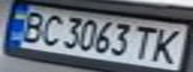0: (78, 16, 100, 53)
3: (109, 20, 136, 58), (60, 15, 84, 51)
6: (93, 19, 115, 55)
B: (12, 9, 51, 44)
C: (33, 11, 66, 47)
K: (148, 26, 190, 65)
T: (127, 22, 160, 61)
